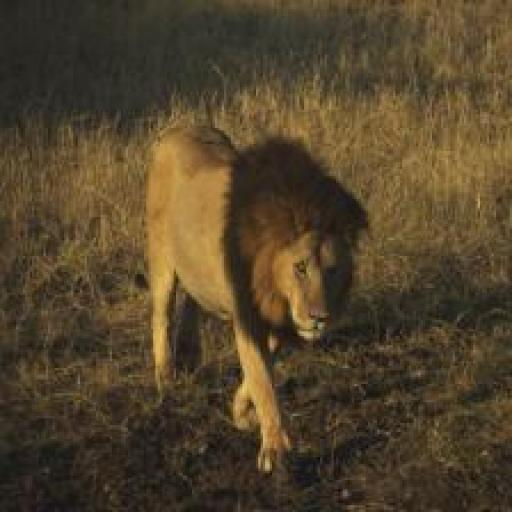lion: (117, 114, 376, 484)
